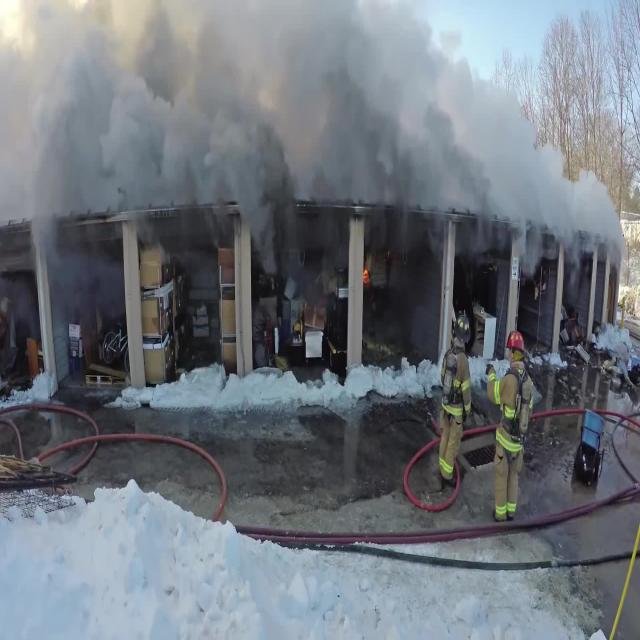Smoke: (4, 1, 631, 330)
